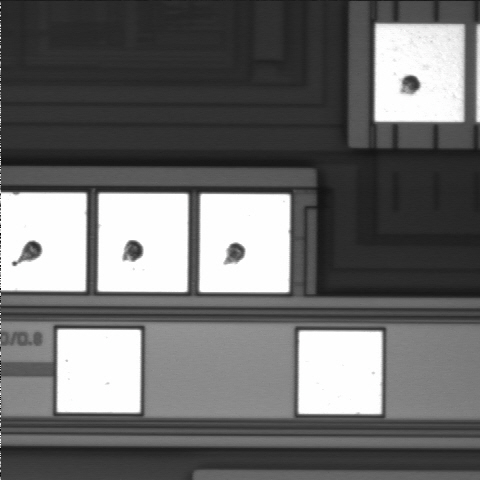pad: (199, 194, 290, 292), (98, 194, 188, 292), (375, 24, 464, 122), (57, 329, 141, 413), (299, 331, 382, 414)
